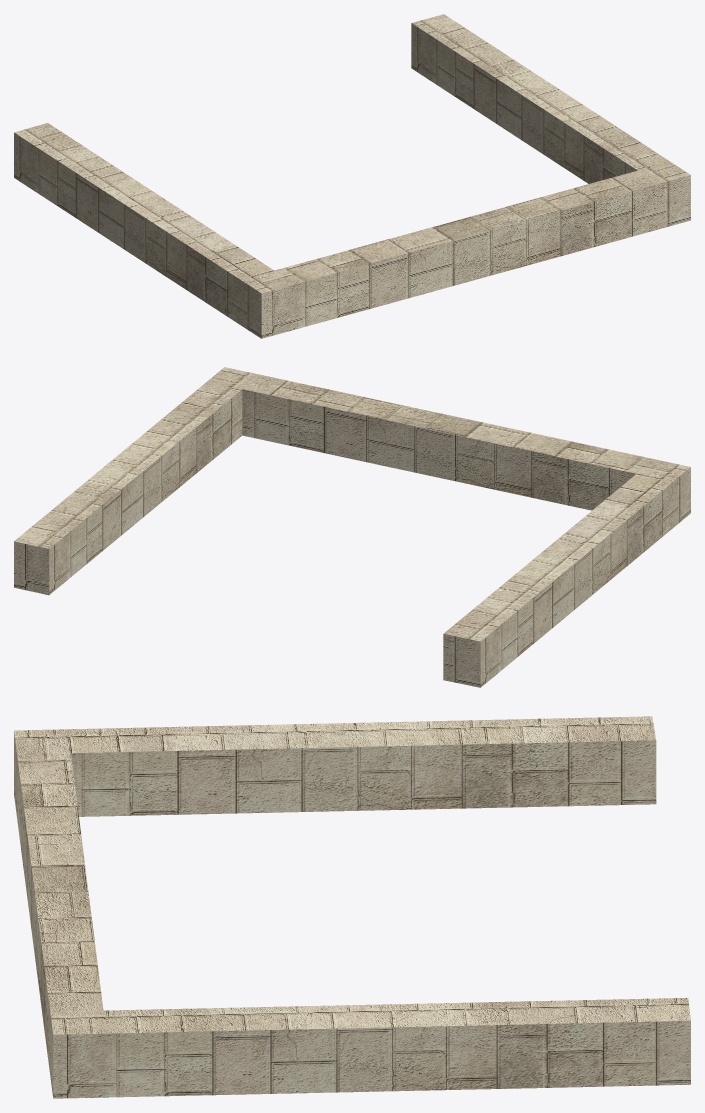
The model's file is walls_114.fbx.
3 views of the same model, one above another, from view 1: azimuth 30°, elevation 25°; view 2: azimuth 150°, elevation 25°; view 3: azimuth 270°, elevation 25° (orthographic). The views are drawn at different scales.
Parts seen in each view (by area): view 1: walls_114; view 2: walls_114; view 3: walls_114.
Boxes of the visible parts, <box> form: walls_114: <box>14,14,690,338</box>; walls_114: <box>14,367,690,687</box>; walls_114: <box>14,716,690,1098</box>.
Bounding box in the file's own units: 321 × 30 × 288.
